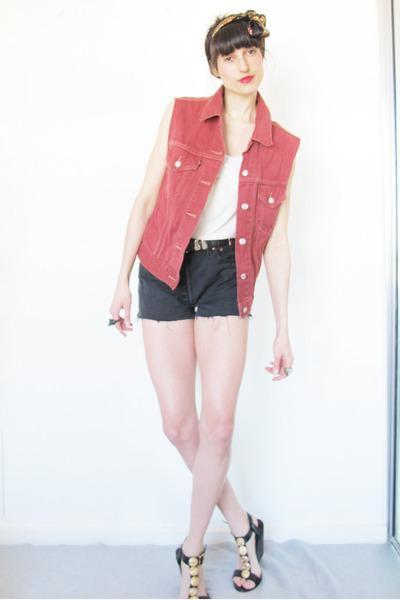Shorts: (132, 233, 258, 321)
jacket: (133, 89, 314, 317)
vest: (176, 144, 258, 251)
